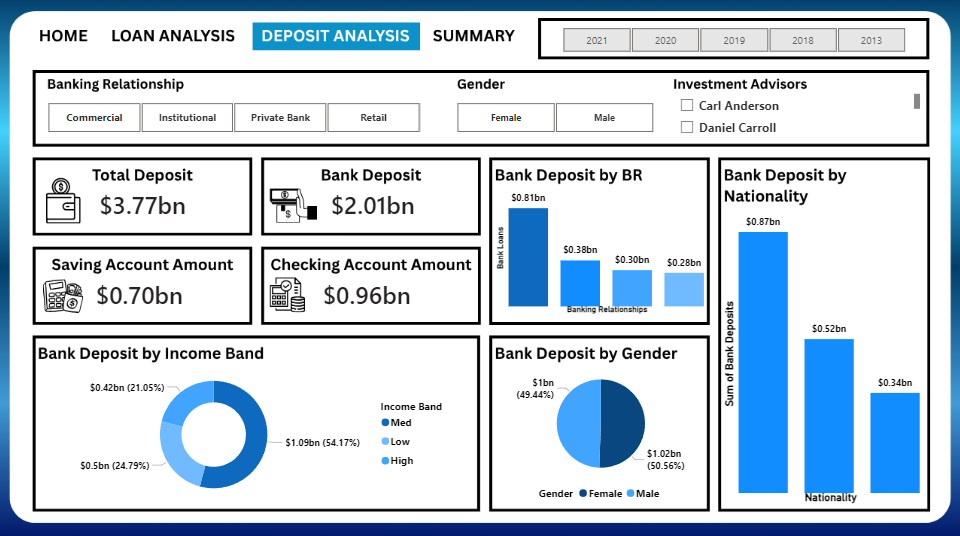

Layout of this report page (visuals, bound fields, positions):
{"tool":"powerbi","page":{"name":"Deposit Analysis","canvas":[1280,720],"ordinal":2},"visuals":[{"type":"slicer","fields":{"Values":["Banking_Clients.Year of Joining"]},"box":[723.9,32.7,504,44.5],"z":0},{"type":"actionButton","box":[40.6,32.7,87.7,35.3],"z":1000},{"type":"actionButton","box":[145.4,33.1,171.4,34.6],"z":2000},{"type":"actionButton","box":[570.8,32.7,120.4,35.3],"z":3000},{"type":"cardVisual","fields":{"Data":["Banking_Clients.Total Deposit"]},"box":[101,240.6,180.8,65.1],"z":4000},{"type":"cardVisual","fields":{"Data":["Sum(Banking_Clients.Bank Deposits)"]},"box":[410.7,240.6,172.8,65.1],"z":5000},{"type":"cardVisual","fields":{"Data":["Sum(Banking_Clients.Saving Accounts)"]},"box":[92.2,360,190.1,64.8],"z":6000},{"type":"cardVisual","fields":{"Data":["Sum(Banking_Clients.Checking Accounts)"]},"box":[394.6,360,188.6,64.8],"z":7000},{"type":"donutChart","fields":{"Category":["Banking_Clients.Income Band"],"Y":["Sum(Banking_Clients.Bank Deposits)"]},"box":[59,483.8,558.7,193],"z":8000},{"type":"columnChart","fields":{"Category":["Banking_Clients.BRId"],"Y":["Sum(Banking_Clients.Bank Loans)"]},"box":[655.2,240.5,289.4,184.3],"z":9000},{"type":"columnChart","fields":{"Y":["Sum(Banking_Clients.Bank Deposits)"],"Category":["Banking_Clients.Nationality"]},"box":[957.6,273.6,276.5,403.2],"z":10000},{"type":"pieChart","fields":{"Category":["Banking_Clients.GenderId"],"Y":["Sum(Banking_Clients.Bank Deposits)"]},"box":[655.2,483.8,289.4,193],"z":11000},{"type":"slicer","fields":{"Values":["Banking_Clients.BRId"]},"box":[40.3,132.5,542.9,51.8],"z":12000},{"type":"slicer","fields":{"Values":["Banking_Clients.GenderId"]},"box":[583.2,132.5,309.6,51.8],"z":13000},{"type":"slicer","fields":{"Values":["Banking_Clients.IAId"]},"box":[892.8,122.4,335.5,61.9],"z":14000}]}

Visuals, with their boxes in screenshot pixels (x1, y1, x2, y2), scaled from the page's 1280x720 canvas onto the 960x536 screenshot:
slicer - Banking_Clients.Year of Joining: select_region(543, 24, 921, 57)
actionButton: select_region(30, 24, 96, 51)
actionButton: select_region(109, 25, 238, 50)
actionButton: select_region(428, 24, 518, 51)
cardVisual - Banking_Clients.Total Deposit: select_region(76, 179, 211, 228)
cardVisual - Sum(Banking_Clients.Bank Deposits): select_region(308, 179, 438, 228)
cardVisual - Sum(Banking_Clients.Saving Accounts): select_region(69, 268, 212, 316)
cardVisual - Sum(Banking_Clients.Checking Accounts): select_region(296, 268, 437, 316)
donutChart - Banking_Clients.Income Band x Sum(Banking_Clients.Bank Deposits): select_region(44, 360, 463, 504)
columnChart - Banking_Clients.BRId x Sum(Banking_Clients.Bank Loans): select_region(491, 179, 708, 316)
columnChart - Sum(Banking_Clients.Bank Deposits) x Banking_Clients.Nationality: select_region(718, 204, 926, 504)
pieChart - Banking_Clients.GenderId x Sum(Banking_Clients.Bank Deposits): select_region(491, 360, 708, 504)
slicer - Banking_Clients.BRId: select_region(30, 99, 437, 137)
slicer - Banking_Clients.GenderId: select_region(437, 99, 670, 137)
slicer - Banking_Clients.IAId: select_region(670, 91, 921, 137)
